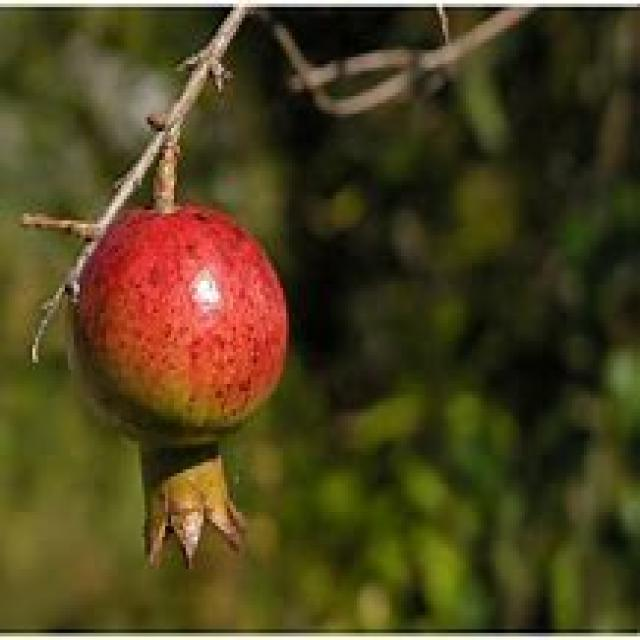Pomegranate: (73, 206, 286, 574)
